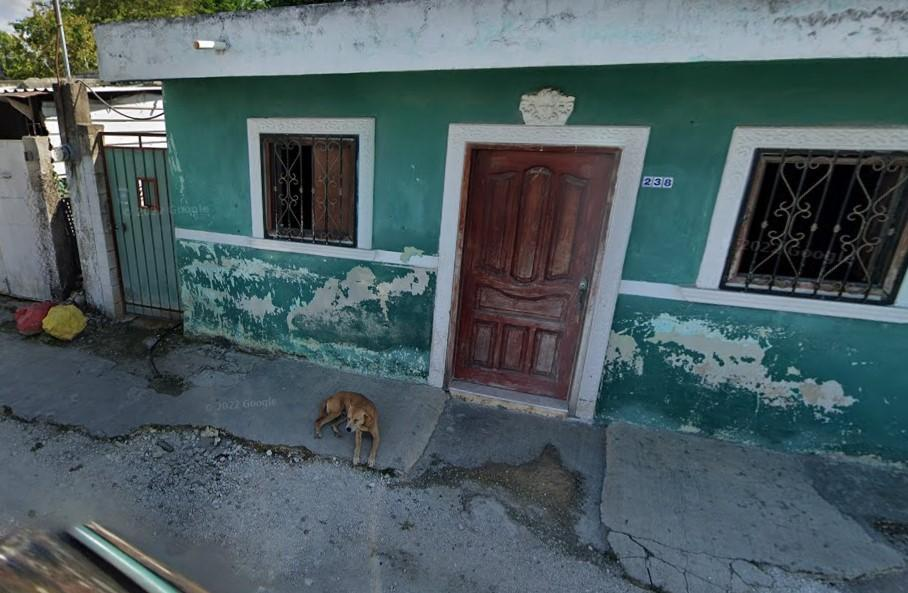normal_dogs: (306, 381, 404, 476)
